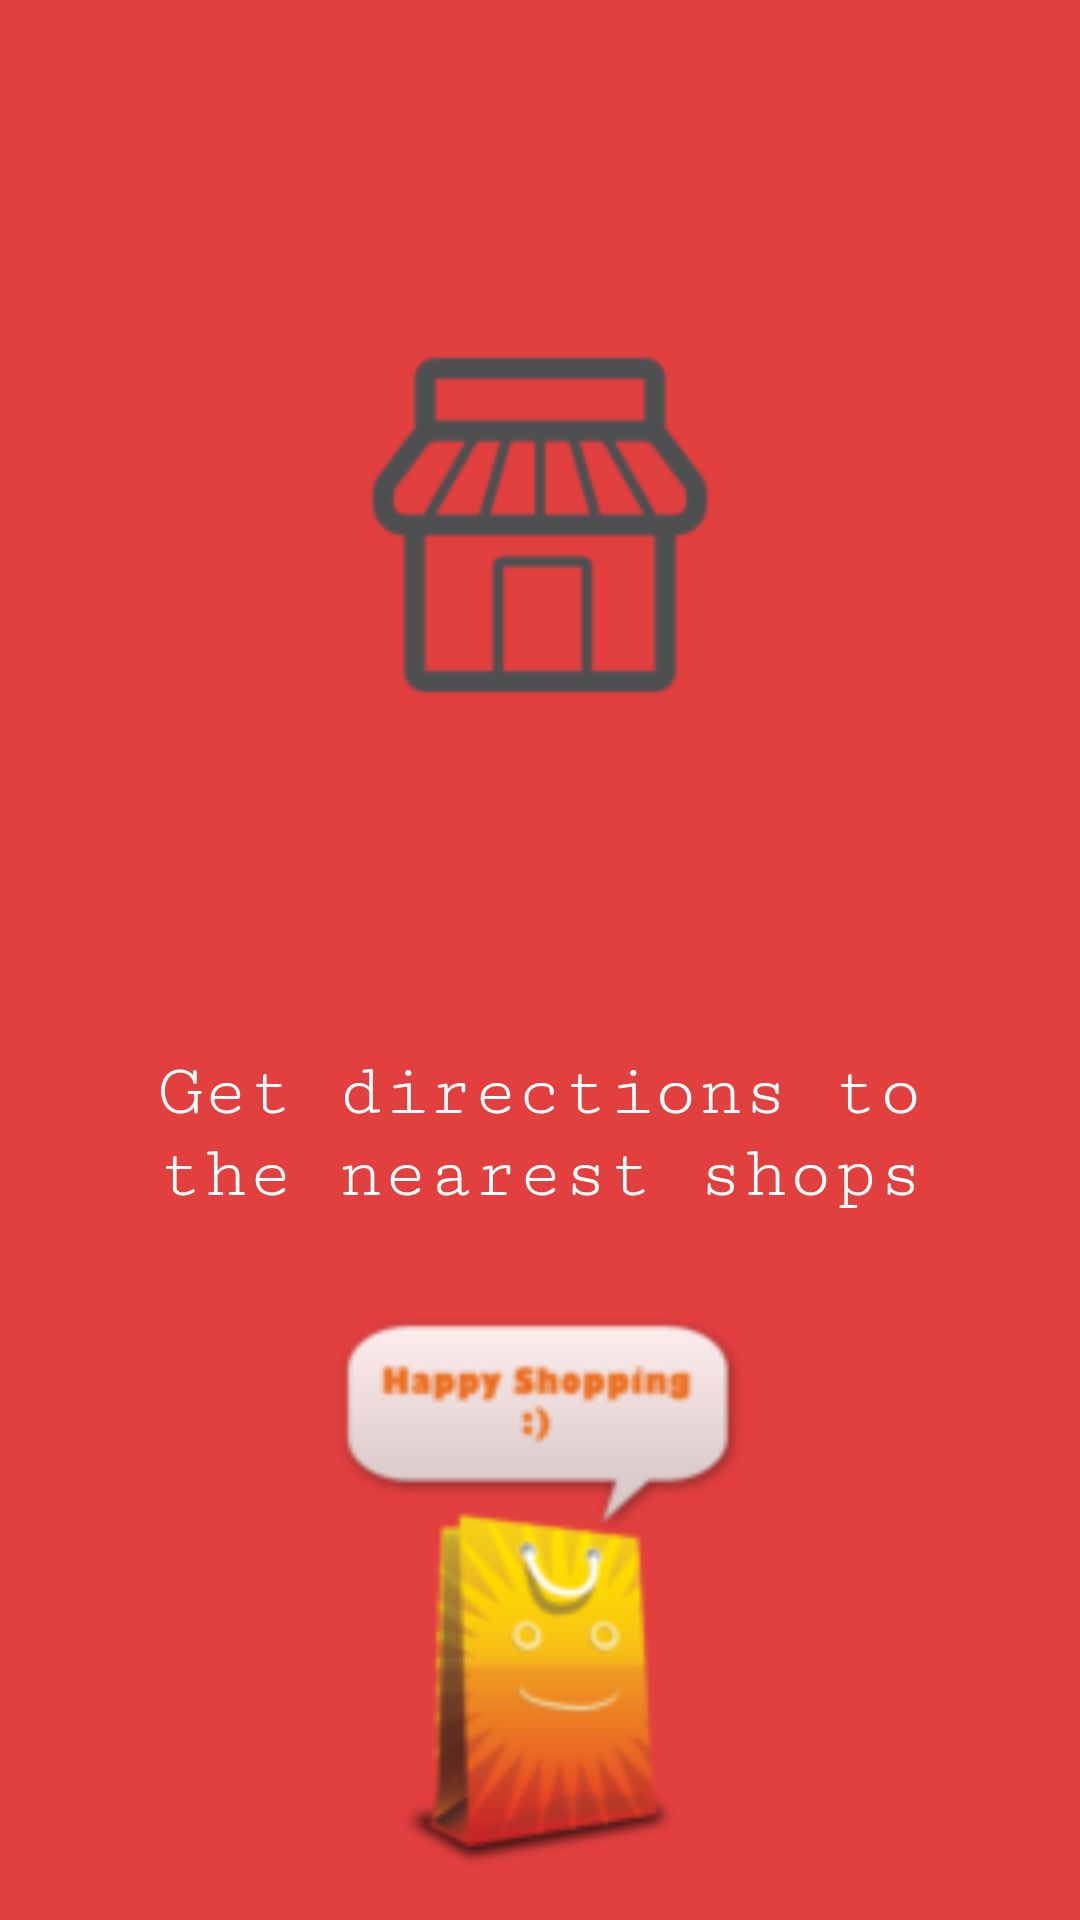

Named icons in this screenshot (1080px×1920px) and their centers, (x=x, y=y):
shop: (x=540, y=525)
